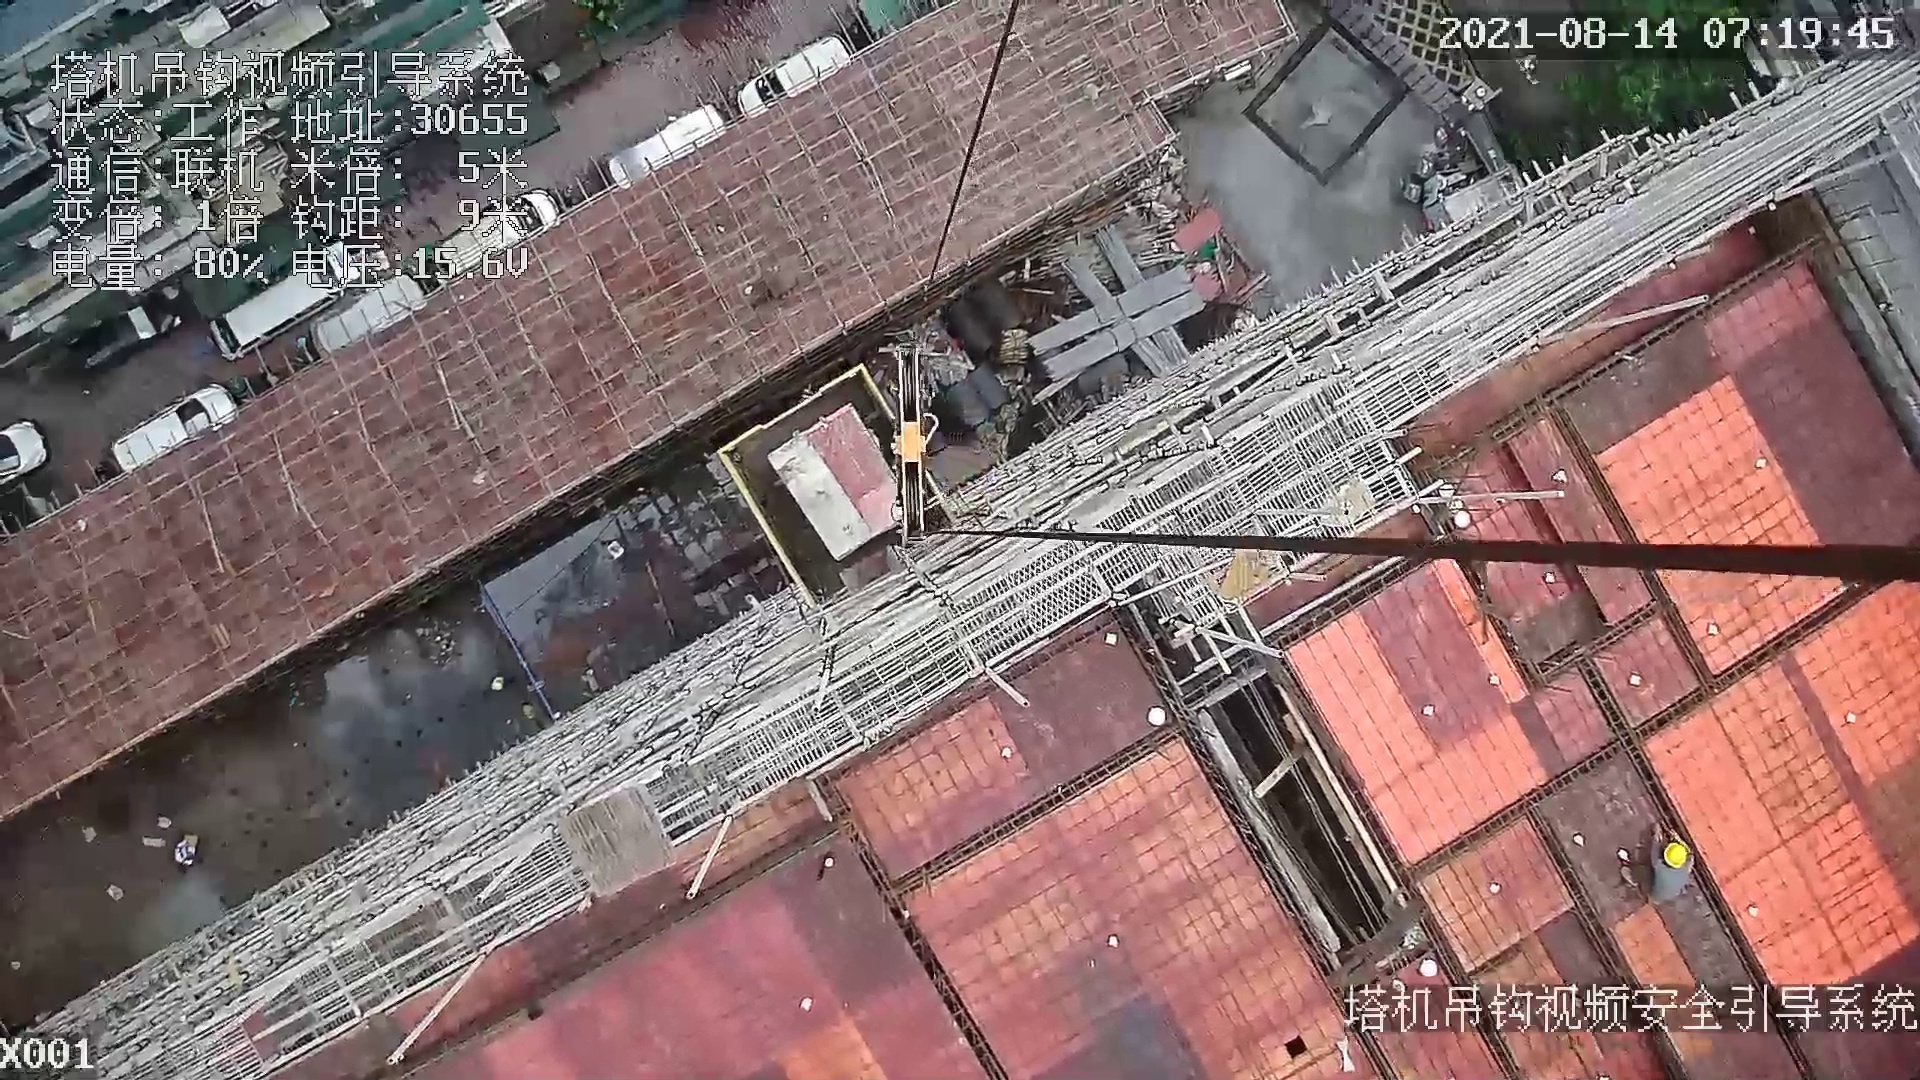helmet: (1661, 836, 1690, 875)
hook: (883, 349, 956, 545)
person: (1641, 812, 1701, 910)
